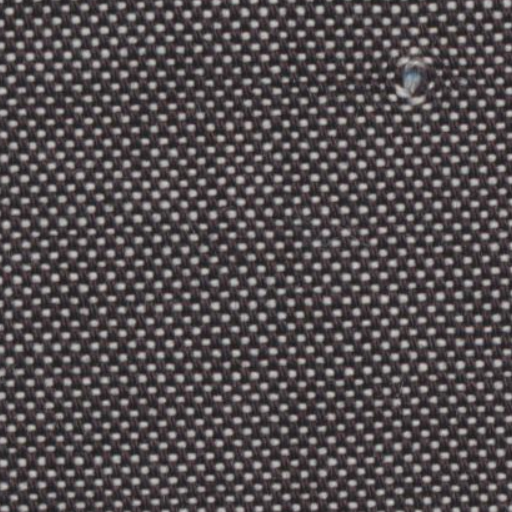PoDong: (373, 44, 450, 114)
